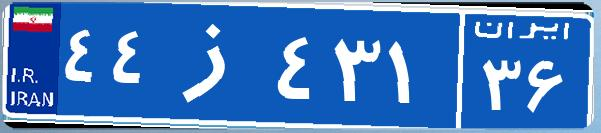1: (385, 28, 445, 110)
3: (330, 28, 385, 110), (475, 38, 525, 113)
4: (273, 28, 330, 110), (57, 26, 110, 107), (110, 28, 158, 105)
6: (525, 38, 570, 115)
ز: (158, 15, 273, 115)
